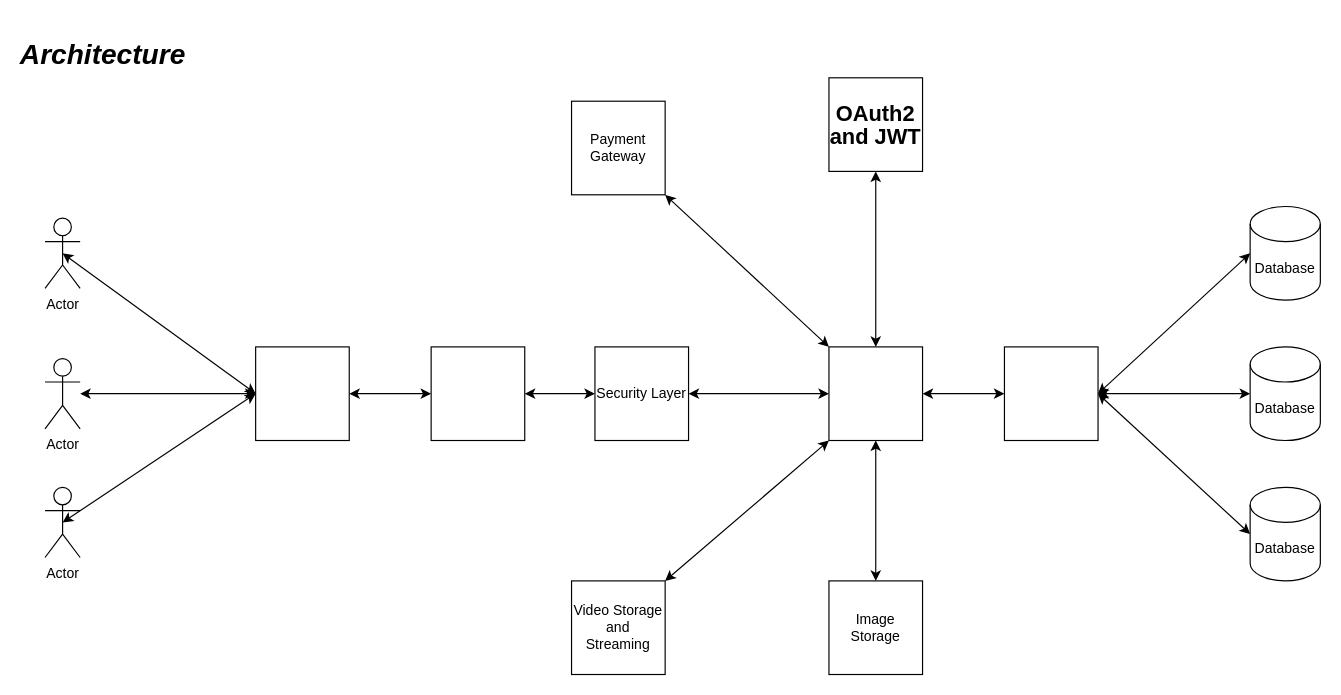
The diagram is 1341 pixels wide and 695 high, and some of its shapes have lost their labels. Here are the shapes that lost their labels. From the top down, the centre of each, then its label:
(x=301, y=393): Frontend
(x=477, y=393): Controller Layer
(x=875, y=393): Service Layer
(x=1050, y=393): Repository Layer
